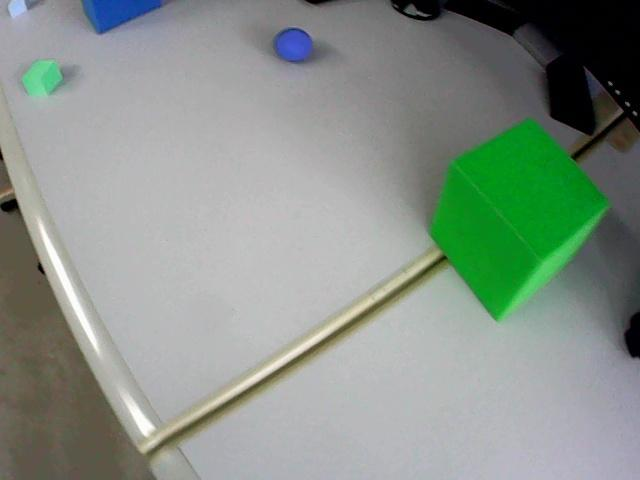blue_block: (83, 0, 161, 32), (8, 0, 29, 17)
